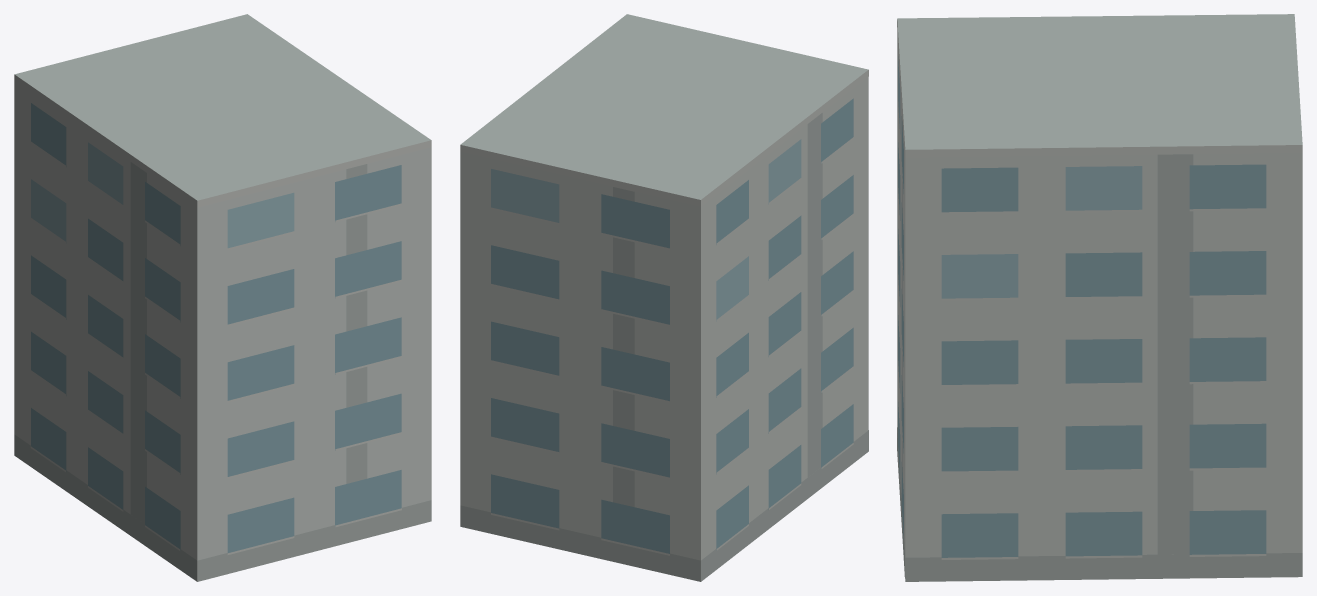
File: survey-upis-32724171.glb
3 views of the same model, side by side, from view 1: azimuth 30°, elevation 25°; view 2: azimuth 150°, elevation 25°; view 3: azimuth 270°, elevation 25° (orthographic). The views are drawn at different scales.
Parts seen in each view (by area): view 1: survey-upis-32724171.tmp; view 2: survey-upis-32724171.tmp; view 3: survey-upis-32724171.tmp.
Part boxes in pixels (x1,y1,x2,y2): survey-upis-32724171.tmp: [14, 14, 431, 581]; survey-upis-32724171.tmp: [460, 14, 868, 581]; survey-upis-32724171.tmp: [897, 14, 1302, 581].
Size of the model in its own units: 8.91 by 13.2 by 11.24.
